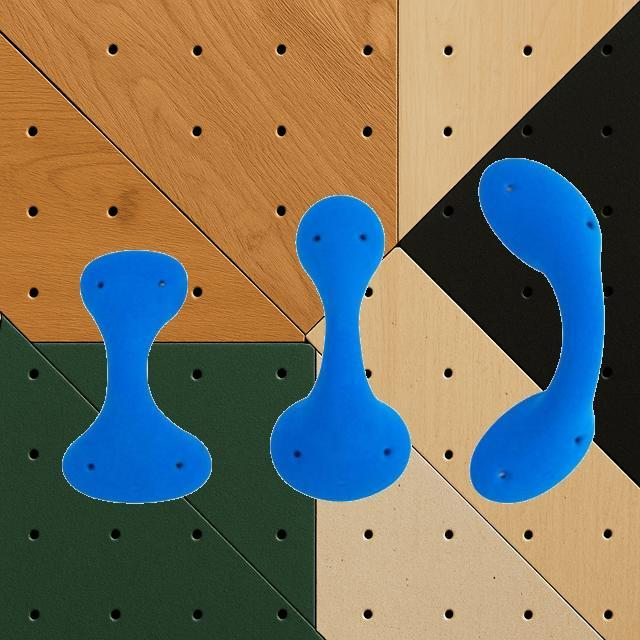Jug: (468, 156, 604, 504), (269, 194, 411, 502), (60, 250, 212, 502)
